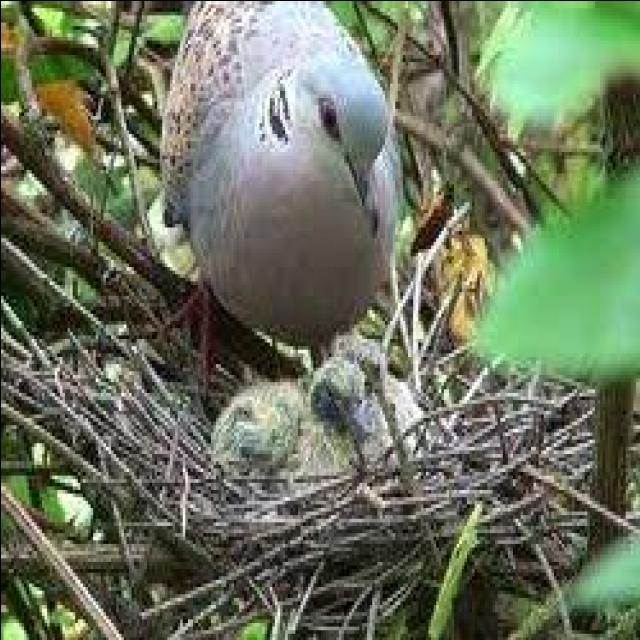pigeon: (148, 0, 402, 384)
